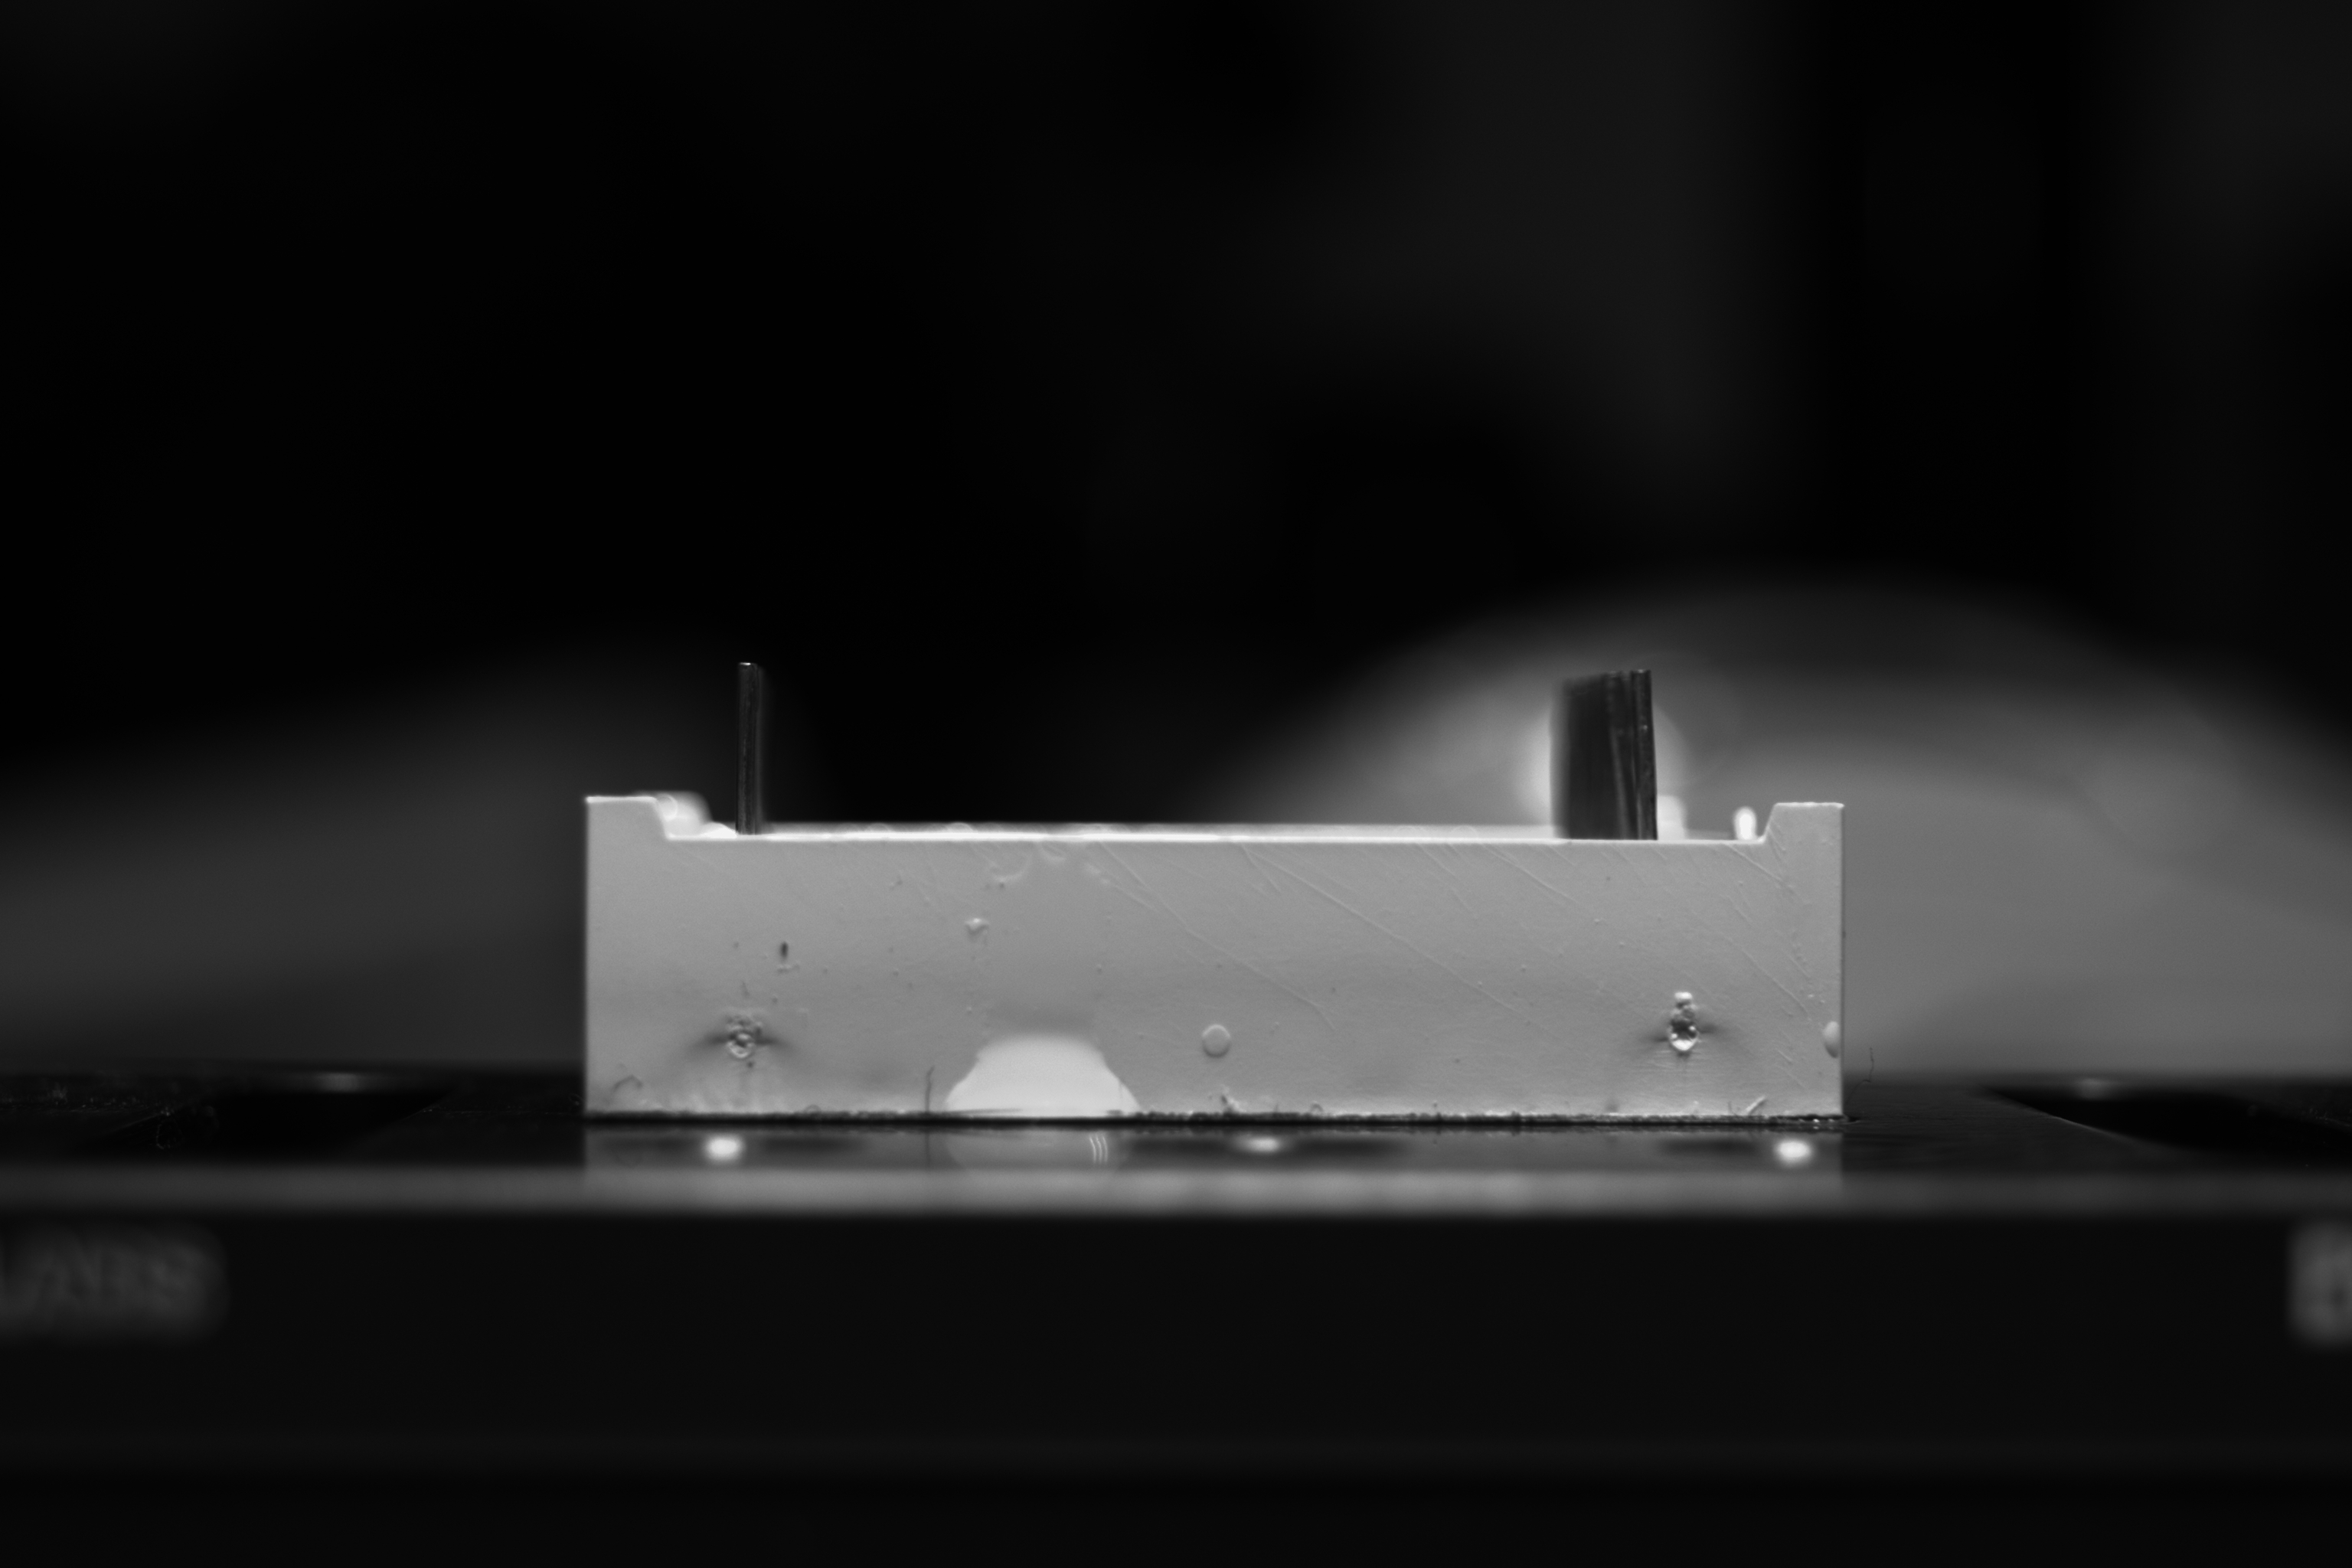glue: (985, 843, 1118, 1032), (947, 1034, 1143, 1115), (1822, 1020, 1841, 1059)
injection_hole: (1664, 990, 1706, 1064), (721, 1011, 770, 1067)
